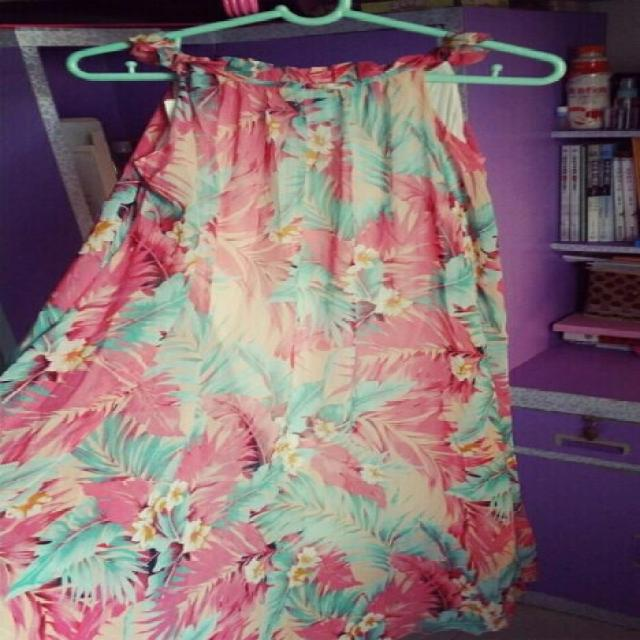vest dress: (1, 32, 516, 639)
